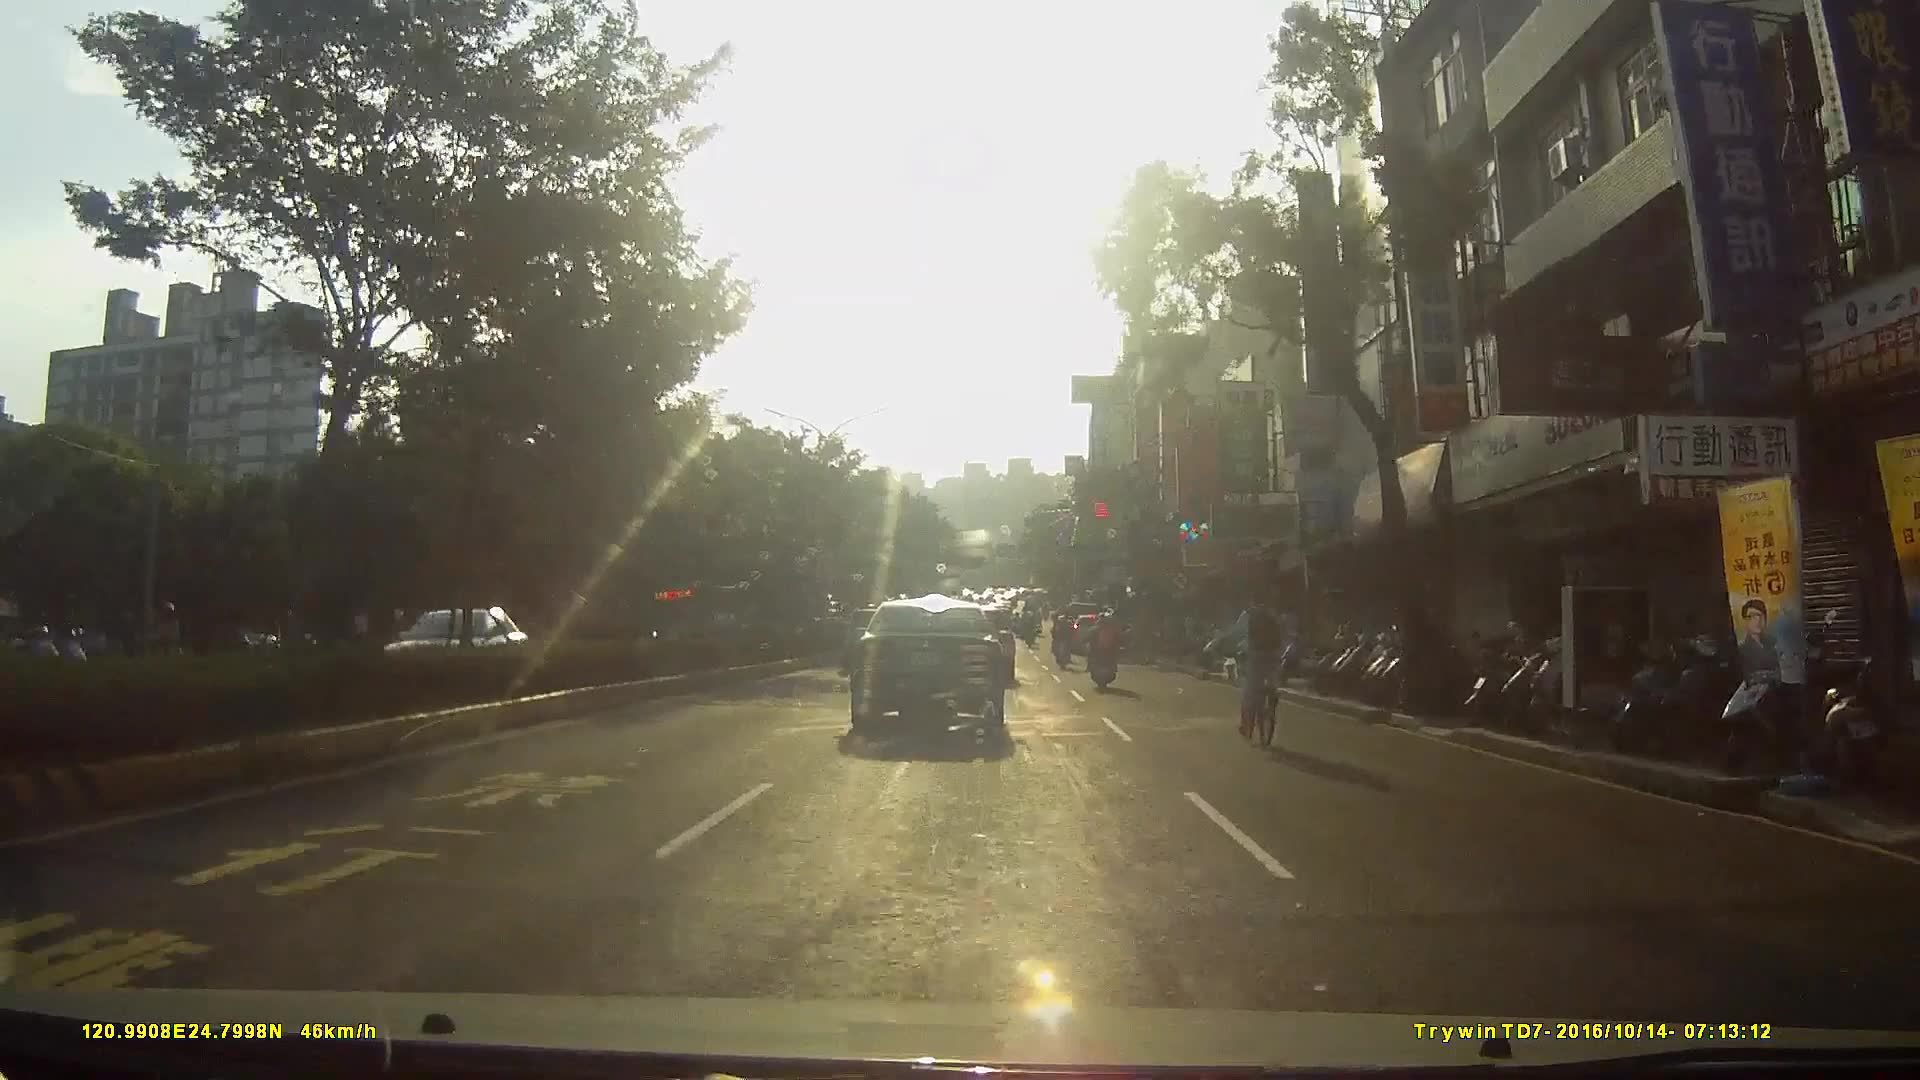rider: (1224, 581, 1298, 751), (129, 599, 204, 695), (1087, 615, 1120, 694), (1049, 615, 1076, 670)
vehicle: (851, 605, 1023, 755), (380, 606, 535, 697)
